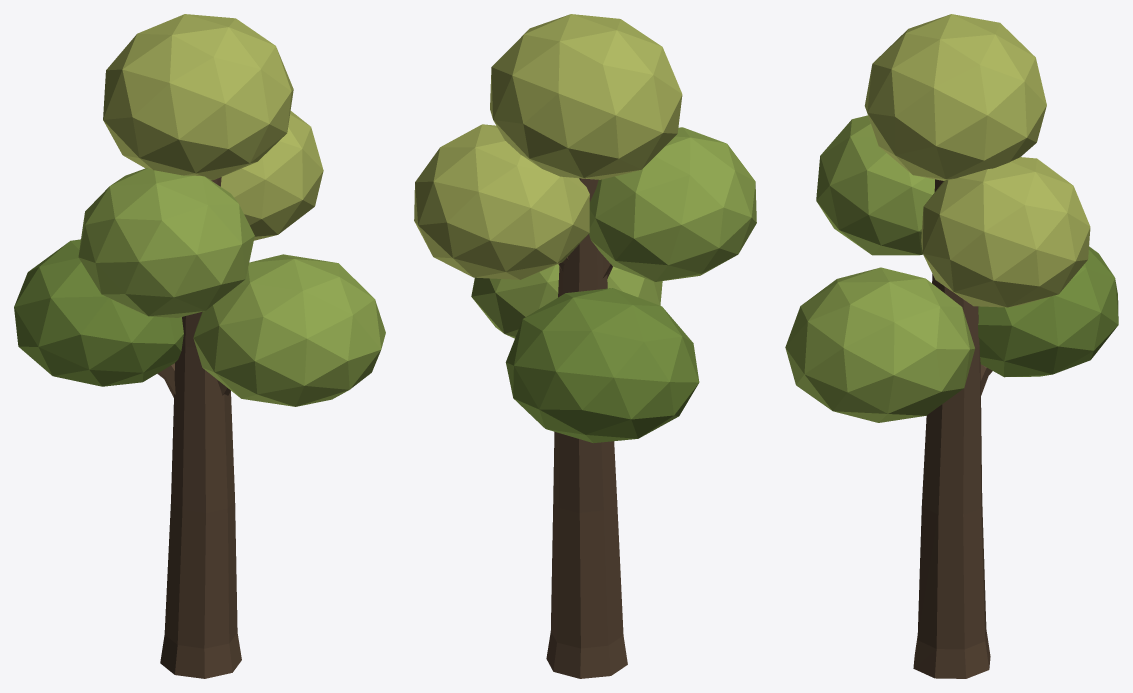
The picture shows the model from 3 angles, left to right: view 1: azimuth 30°, elevation 25°; view 2: azimuth 150°, elevation 25°; view 3: azimuth 270°, elevation 25°; orthographic projection.
Parts seen in each view (by area): view 1: crown, trunk; view 2: crown, trunk; view 3: crown, trunk.
Part boxes in pixels (bbox=[...]): crown: bbox=[14, 14, 385, 406]; trunk: bbox=[157, 177, 241, 678]; crown: bbox=[414, 14, 756, 443]; trunk: bbox=[546, 178, 627, 678]; crown: bbox=[785, 14, 1118, 422]; trunk: bbox=[913, 179, 992, 678].
Size of the model in its own units: 2.85 by 6.3 by 3.
